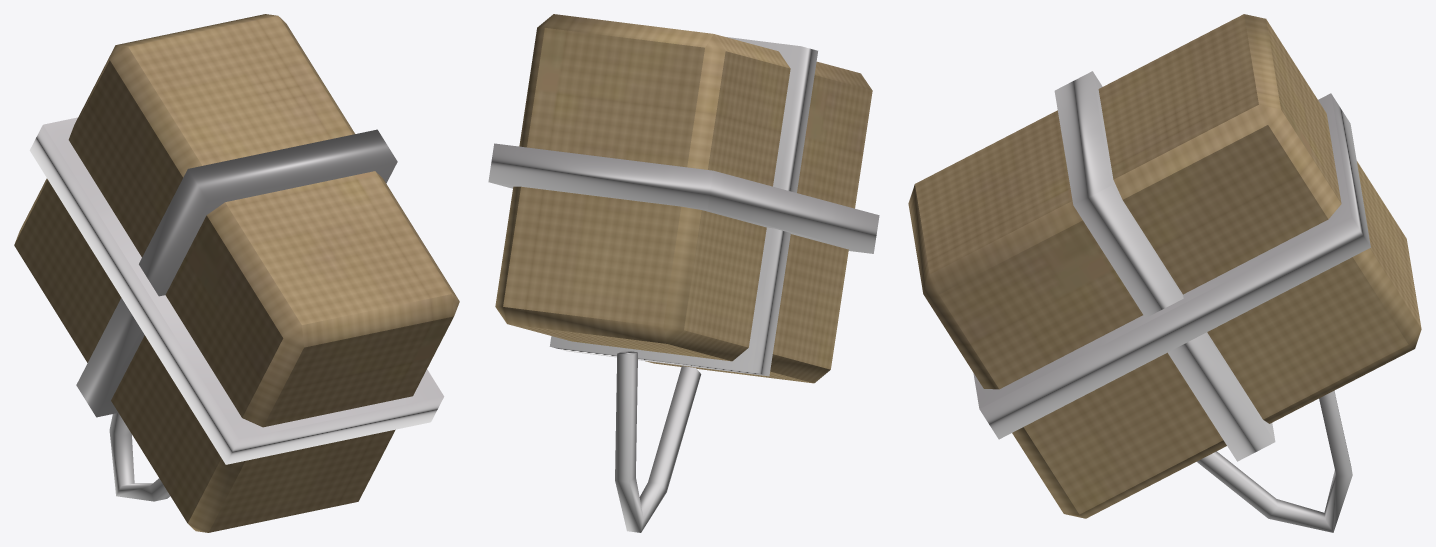
The model's file is cargo.t4.glb.
The picture shows the model from 3 angles, left to right: view 1: azimuth 30°, elevation 25°; view 2: azimuth 150°, elevation 25°; view 3: azimuth 270°, elevation 25°; orthographic projection. The views are drawn at different scales.
Visible parts, largest first — view 1: courier.cargo.t4; view 2: courier.cargo.t4; view 3: courier.cargo.t4.
Boxes of the visible parts, box(x1,y1,x2,y2) form: courier.cargo.t4: box(14, 14, 459, 532); courier.cargo.t4: box(488, 14, 879, 532); courier.cargo.t4: box(908, 14, 1421, 532).
Size of the model in its own units: 0.1989 by 0.402 by 0.3765.
Materials: 2 (2 with a texture image).
